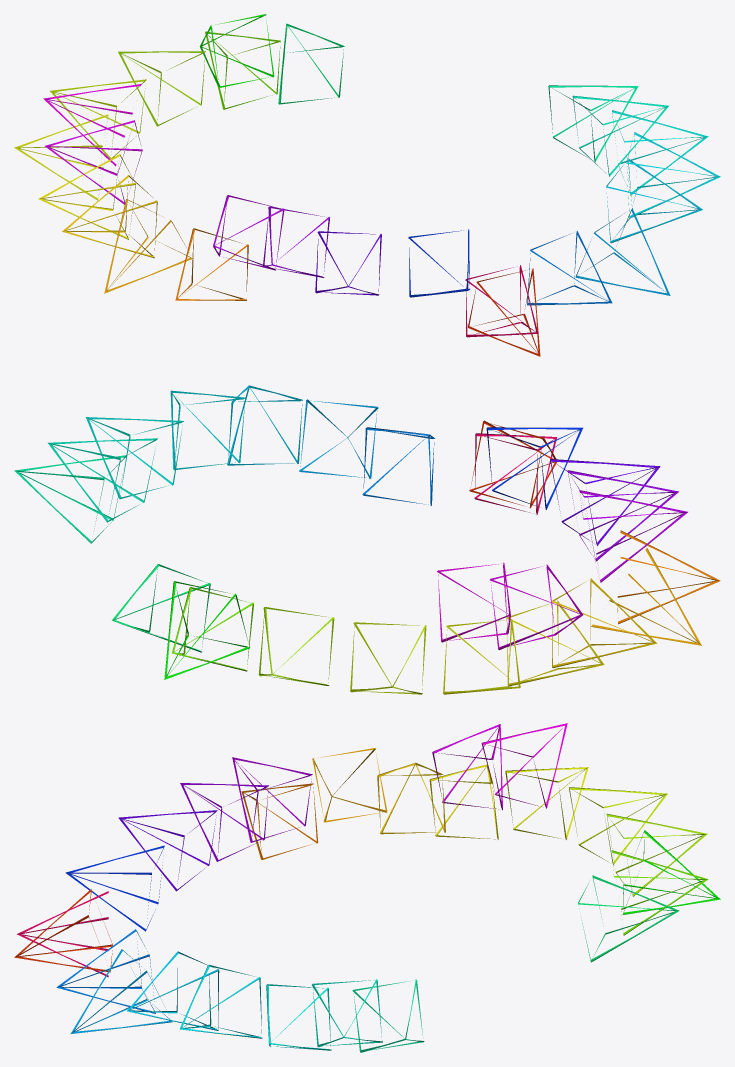
The model's file is vggt.glb.
3 renders of one model, top to bottom at view 1: azimuth 30°, elevation 25°; view 2: azimuth 150°, elevation 25°; view 3: azimuth 270°, elevation 25°, orthographic. The views are drawn at different scales.
Visible parts, largest first — view 1: world; view 2: world; view 3: world.
Boxes of the visible parts, x1=… form: world: x1=14, y1=14, x2=720, y2=356; world: x1=14, y1=385, x2=720, y2=694; world: x1=14, y1=723, x2=720, y2=1052.
Size of the model in its own units: 0.9172 by 0.2003 by 0.949.
